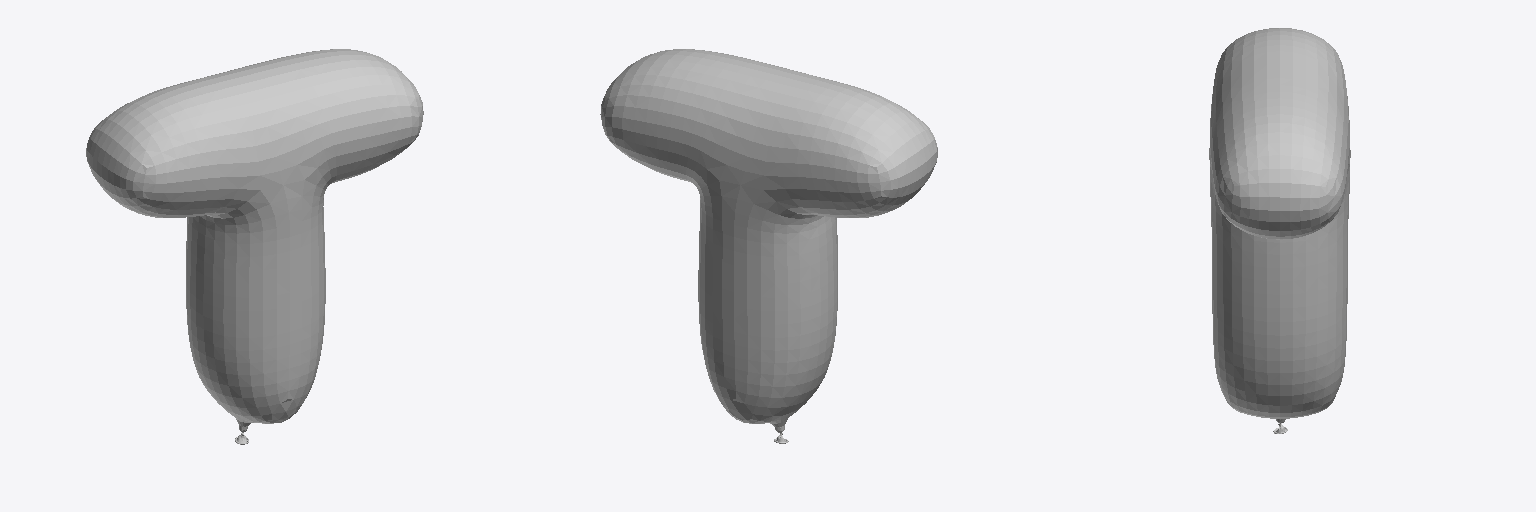
The picture shows the model from 3 angles: view 1: azimuth 30°, elevation 25°; view 2: azimuth 150°, elevation 25°; view 3: azimuth 270°, elevation 25°; orthographic projection.
Visible parts, largest first — view 1: Balloon_Alphabet_Subdivision_T_Alphabet_T; view 2: Balloon_Alphabet_Subdivision_T_Alphabet_T; view 3: Balloon_Alphabet_Subdivision_T_Alphabet_T.
Boxes of the visible parts, <box> form: Balloon_Alphabet_Subdivision_T_Alphabet_T: <box>86,49,423,444</box>; Balloon_Alphabet_Subdivision_T_Alphabet_T: <box>600,49,937,443</box>; Balloon_Alphabet_Subdivision_T_Alphabet_T: <box>1209,28,1350,433</box>.
Bounding box in the file's own units: 44.7 × 50.81 × 17.75.